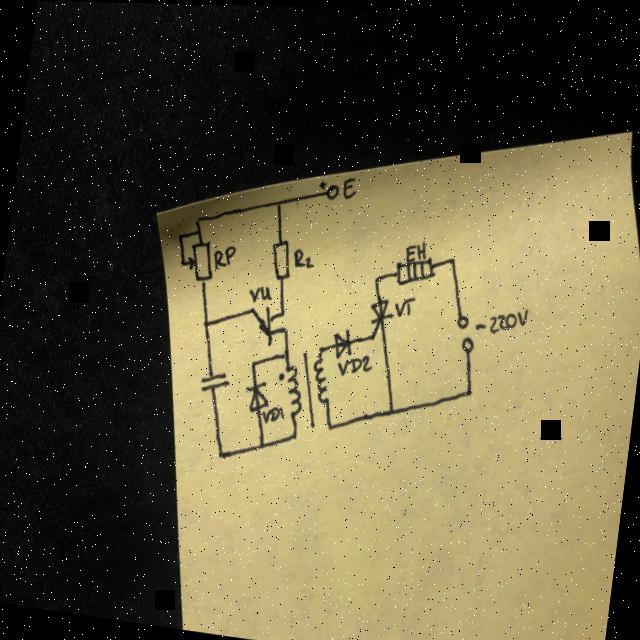capacitor: (198, 367, 230, 395)
diode: (242, 375, 270, 413), (329, 324, 355, 358)
junction: (215, 444, 228, 458), (174, 229, 187, 243), (256, 436, 268, 451), (276, 304, 288, 319), (247, 355, 259, 370), (278, 321, 290, 336), (371, 270, 383, 285), (192, 222, 204, 237), (200, 315, 212, 329), (289, 427, 301, 441), (278, 344, 290, 358), (272, 195, 284, 209), (190, 209, 202, 223), (445, 252, 457, 266), (463, 381, 475, 395), (384, 402, 396, 416), (324, 417, 336, 431), (316, 341, 328, 355), (178, 257, 188, 270)
resistor: (184, 237, 217, 285), (268, 236, 296, 280)
terminal: (454, 308, 470, 330), (323, 179, 339, 200), (460, 333, 476, 354)
text: (476, 298, 528, 336), (336, 347, 373, 378), (210, 241, 236, 270), (290, 244, 316, 270), (248, 280, 274, 305), (404, 235, 428, 261), (392, 292, 416, 316), (260, 402, 286, 424), (341, 172, 358, 200)
thyristor: (365, 293, 395, 342)
transformer: (274, 350, 334, 419)
transistor: (244, 300, 277, 345)
